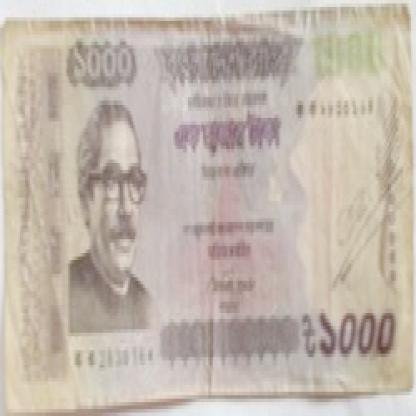One Thousand taka: (300, 305, 398, 364), (67, 35, 138, 94)
